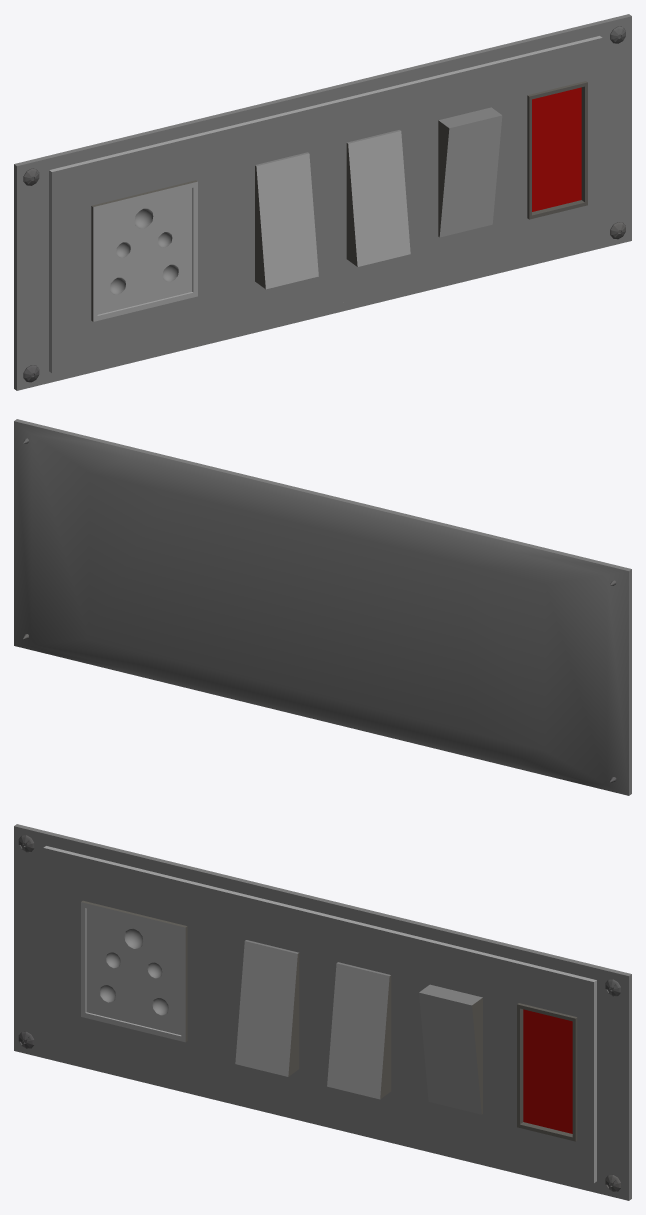
Rendered from switch_board.glb.
3 renders of one model, top to bottom at view 1: azimuth 30°, elevation 25°; view 2: azimuth 150°, elevation 25°; view 3: azimuth 330°, elevation 25°, orthographic.
Parts seen in each view (by area): view 1: Cube; view 2: Cube; view 3: Cube.
Part boxes in pixels (left/top/right/bottom): Cube: left=14, top=14, right=631, bottom=390; Cube: left=14, top=419, right=631, bottom=795; Cube: left=14, top=824, right=631, bottom=1200.
Size of the model in its own units: 0.2911 by 0.1016 by 0.0187.
